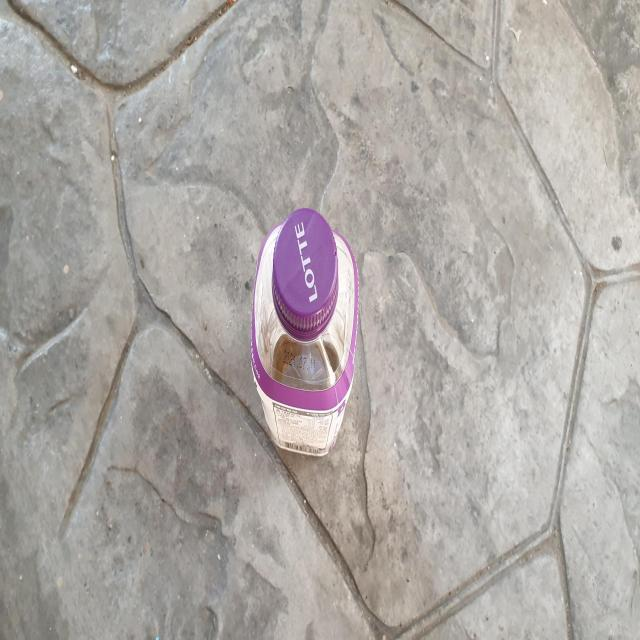plastic: (251, 207, 359, 456)
